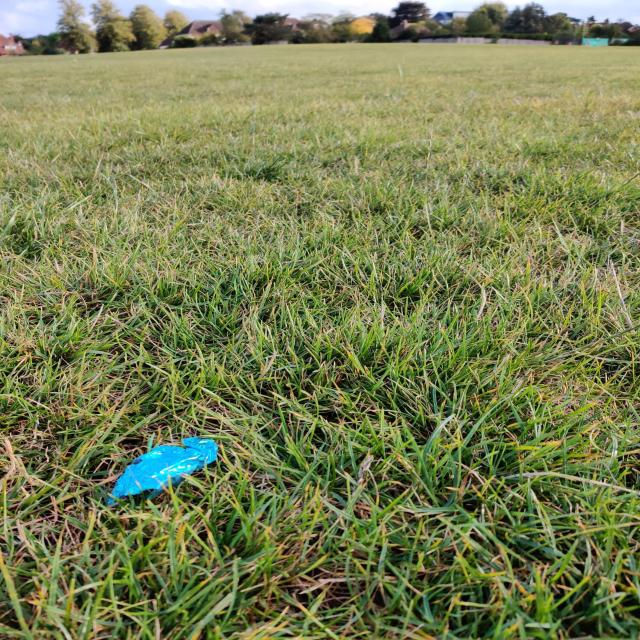litter: (108, 437, 218, 503)
